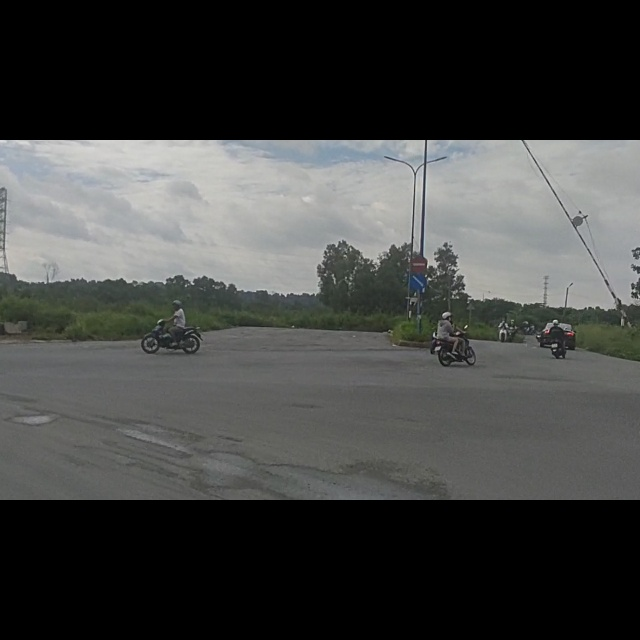bien_chi_dan: (409, 235, 427, 267), (412, 204, 427, 235)
